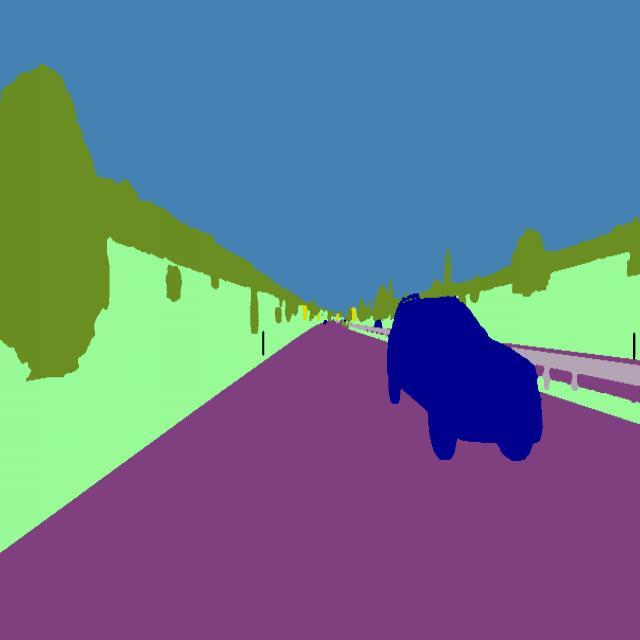unsafe: (387, 287, 545, 474)
